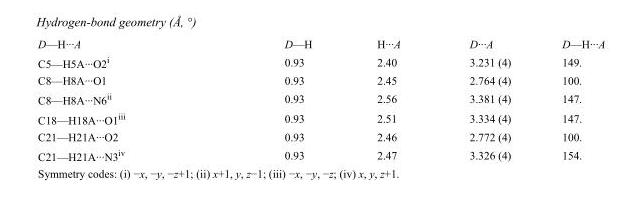table: (37, 37, 604, 162)
table column: (37, 37, 204, 162), (204, 37, 343, 162), (434, 37, 535, 162), (343, 37, 434, 162), (535, 37, 604, 162)
table row: (37, 51, 604, 71), (37, 88, 604, 108), (37, 108, 604, 127), (37, 144, 604, 162), (37, 71, 604, 88), (37, 127, 604, 144), (37, 37, 604, 51)
